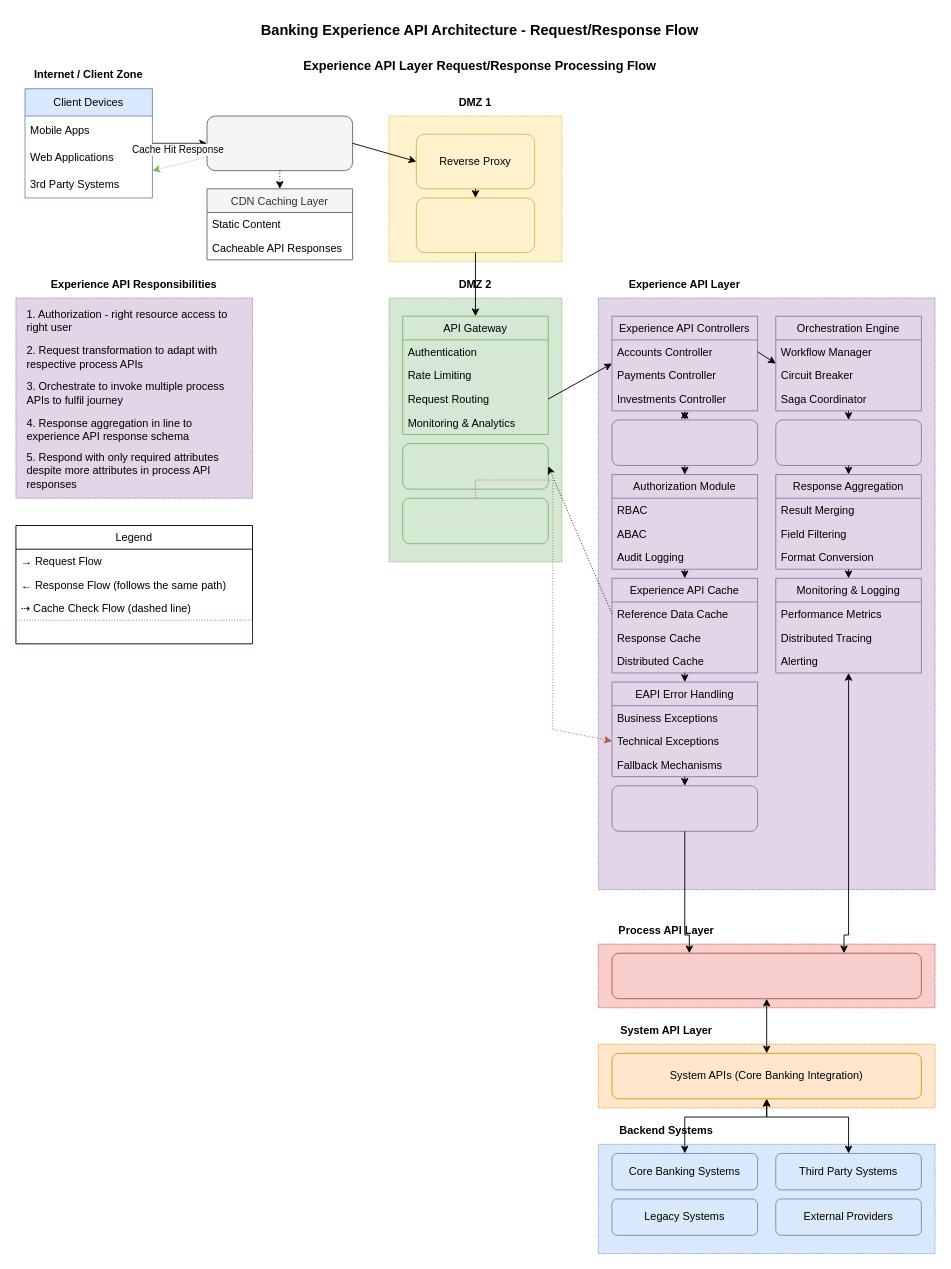
This 951x1269 diagram has some shape labels left out. Each missing label, with the centre of its shape:
"API Gateway Cache" goes at (475,466).
"Content Delivery Network (CDN)" goes at (279,143).
"Error Handler" goes at (475,520).
"Process APIs (Business Logic & Orchestration)" goes at (766,975).
"Request Transformation" goes at (848,442).
"Request Validation" goes at (684,442).
"Response Transformation" goes at (684,808).
"Web Application Firewall" goes at (475,225).
"⇢ Error Handling Flow (red dashed line)" goes at (134,631).
